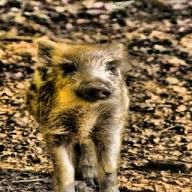boar: (24, 37, 131, 192)
